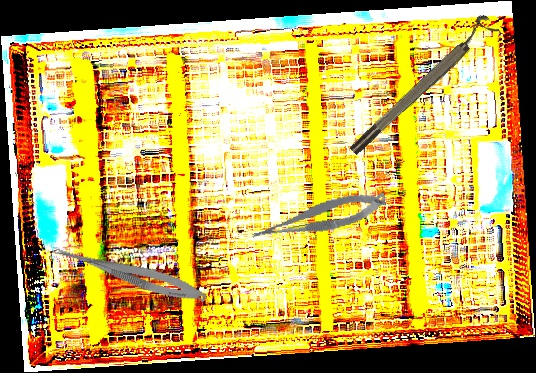Fixation Ring: (341, 11, 501, 159)
Micro Scissor: (44, 239, 210, 308), (248, 188, 389, 245)
